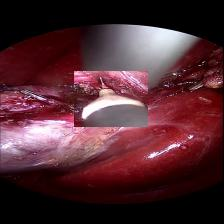Hook: (74, 70, 148, 126)
